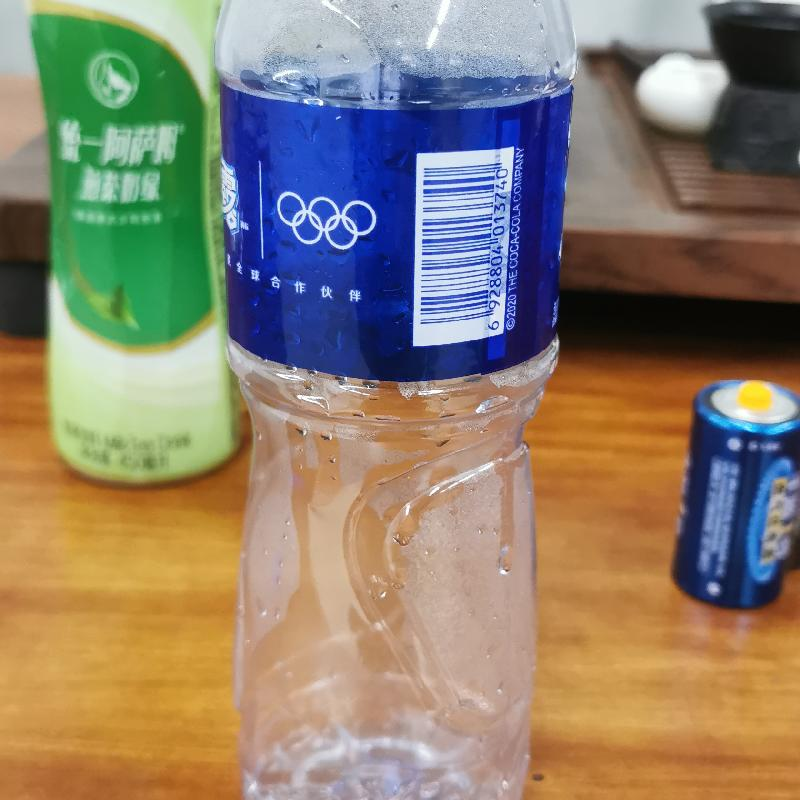bottles: (207, 6, 576, 799)
